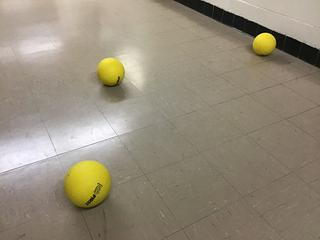power_cell: (60, 156, 111, 213), (247, 31, 286, 61), (97, 54, 127, 92)
